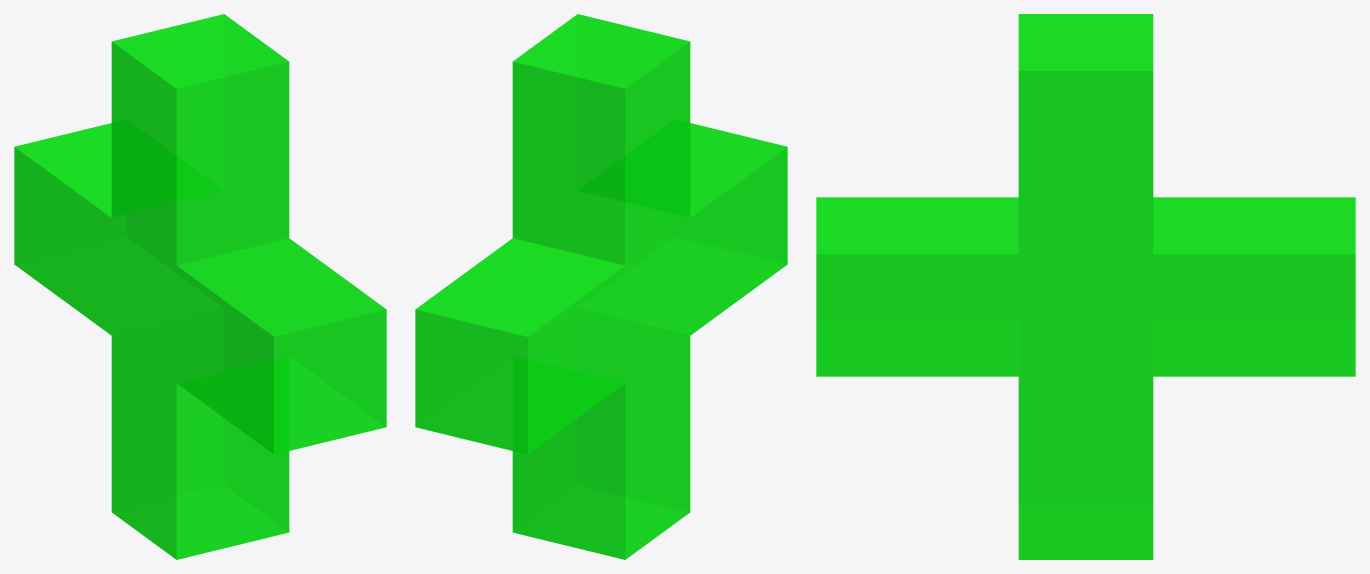
File: health pickup.dae
3 views of the same model, side by side, from view 1: azimuth 30°, elevation 25°; view 2: azimuth 150°, elevation 25°; view 3: azimuth 270°, elevation 25° (orthographic). The views are drawn at different scales.
Visible parts, largest first — view 1: Cube; view 2: Cube; view 3: Cube.
Part boxes in pixels (x1,y1,x2,y2): Cube: (14, 14, 386, 559); Cube: (415, 14, 787, 559); Cube: (816, 14, 1355, 559).
Bounding box in the file's own units: 0.5 × 2 × 2.
